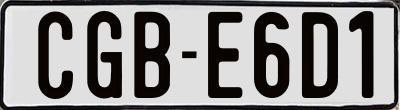1: (347, 8, 377, 96)
6: (254, 12, 293, 100)
B: (133, 12, 171, 99)
C: (36, 10, 73, 98)
D: (302, 10, 342, 100)
E: (207, 10, 247, 98)
G: (84, 9, 119, 102)
